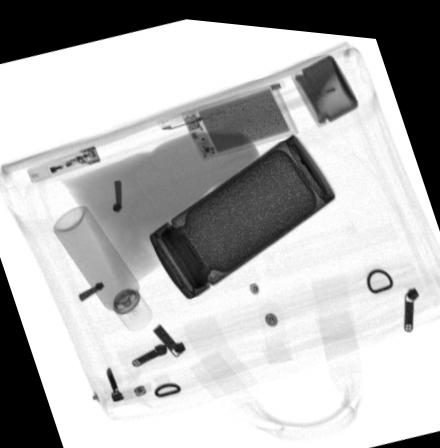Lighter: (24, 143, 100, 184)
Powerbank: (179, 76, 298, 155)
Sprayer: (52, 203, 151, 330)
